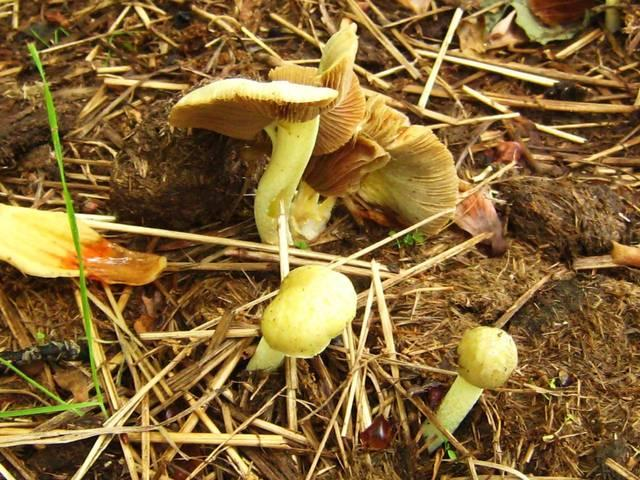Edible Mushroom: (283, 19, 463, 242), (167, 75, 338, 246), (417, 324, 518, 454), (255, 260, 364, 369)
